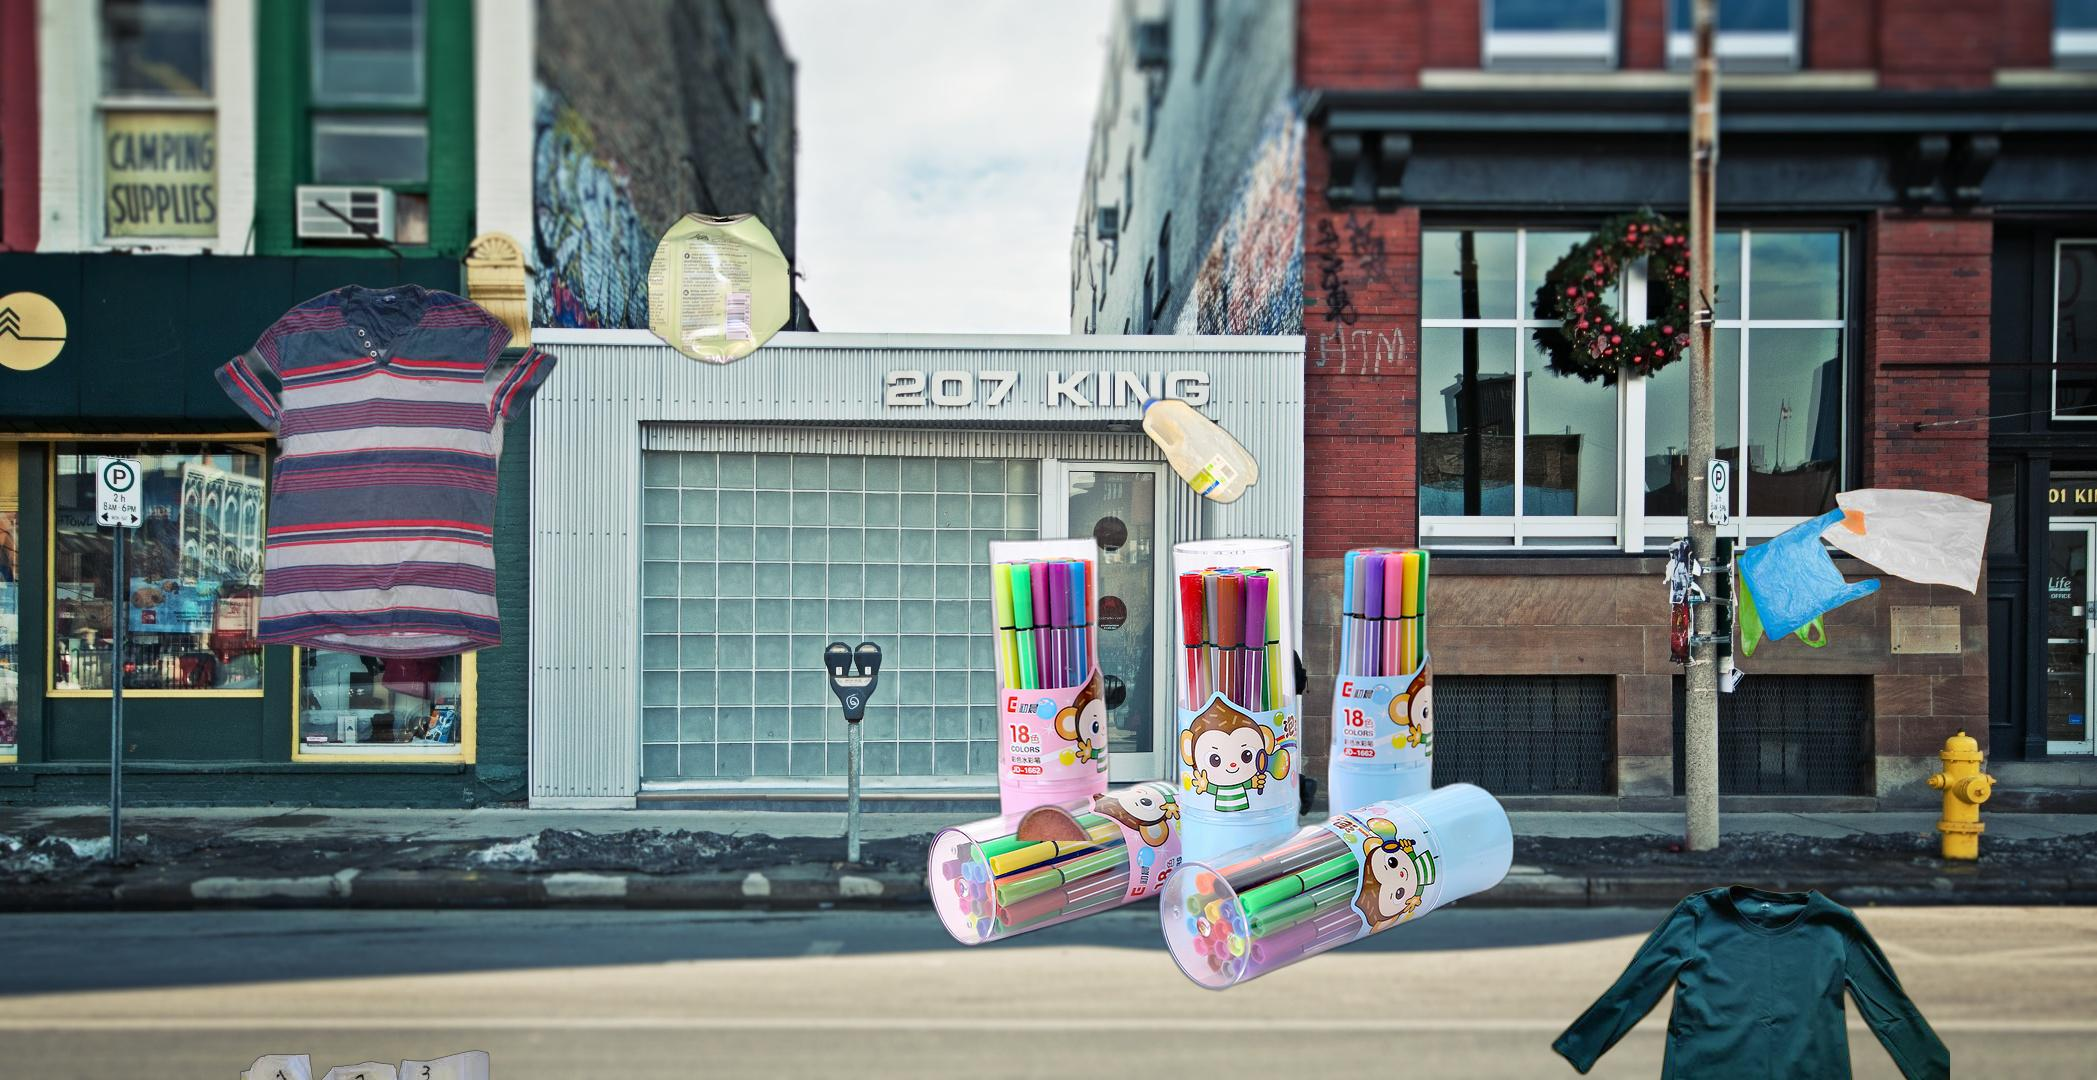clothes: (212, 280, 560, 664), (1550, 880, 1950, 1080)
metal-cans: (643, 205, 794, 371)
penholder: (921, 521, 1519, 996)
plastic-bag: (1734, 485, 1995, 658)
plastic-bottles: (1011, 393, 1264, 842)
trash: (231, 1047, 492, 1080)
